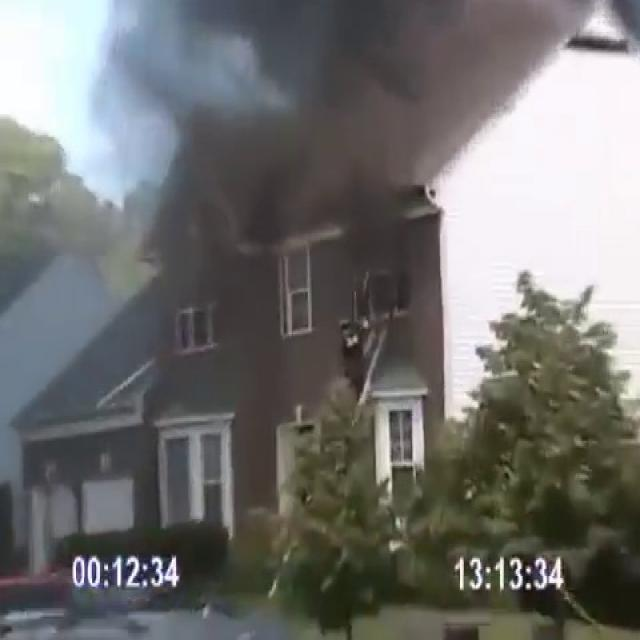Smoke: (88, 0, 640, 350)
